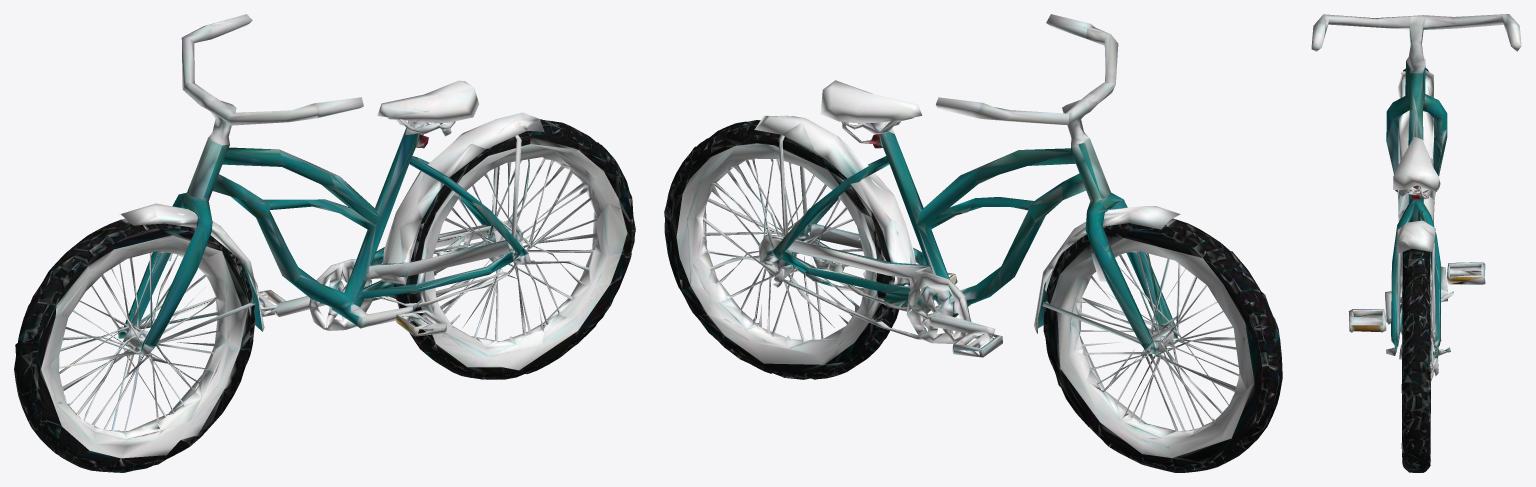
Rendered from bike2.glb.
The picture shows the model from 3 angles, left to right: view 1: azimuth 30°, elevation 25°; view 2: azimuth 150°, elevation 25°; view 3: azimuth 270°, elevation 25°; orthographic projection. The views are drawn at different scales.
Visible parts, largest first — view 1: LO.001; view 2: LO.001; view 3: LO.001.
Boxes of the visible parts, bbox=[...] form: LO.001: bbox=[14, 14, 635, 472]; LO.001: bbox=[664, 14, 1282, 472]; LO.001: bbox=[1311, 14, 1521, 472].
Size of the model in its own units: 1.9 by 1.1 by 0.6317.
Materials: 1 (1 with a texture image).
